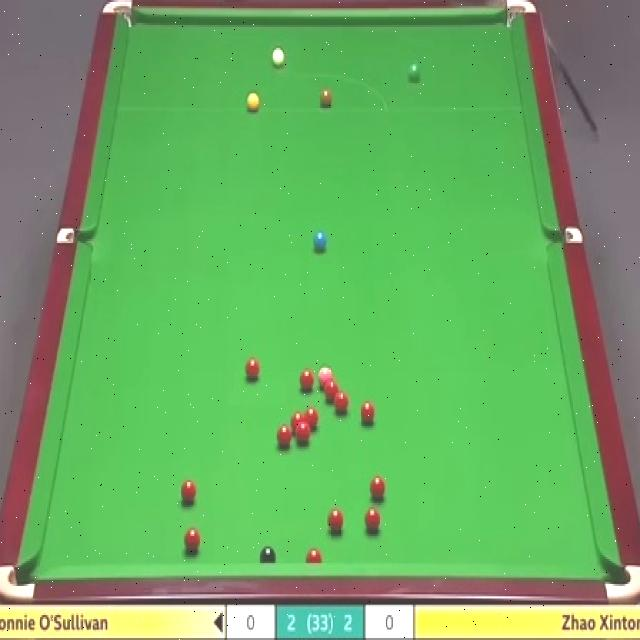black-ball: (259, 542, 276, 567)
blue-ball: (314, 232, 327, 252)
brown-ball: (319, 90, 332, 110)
green-ball: (407, 64, 422, 85)
pink-ball: (317, 363, 333, 387)
red-ball: (368, 474, 387, 502), (364, 505, 382, 534), (179, 478, 198, 504), (243, 355, 260, 382), (183, 526, 200, 551), (328, 506, 344, 532), (298, 366, 314, 392), (276, 423, 292, 448), (334, 392, 349, 417), (360, 400, 375, 425), (305, 406, 320, 429), (296, 419, 310, 443), (305, 547, 322, 564), (324, 380, 339, 399), (291, 411, 305, 429)
white-ball: (272, 45, 284, 68)
yellow-ball: (246, 89, 259, 112)
